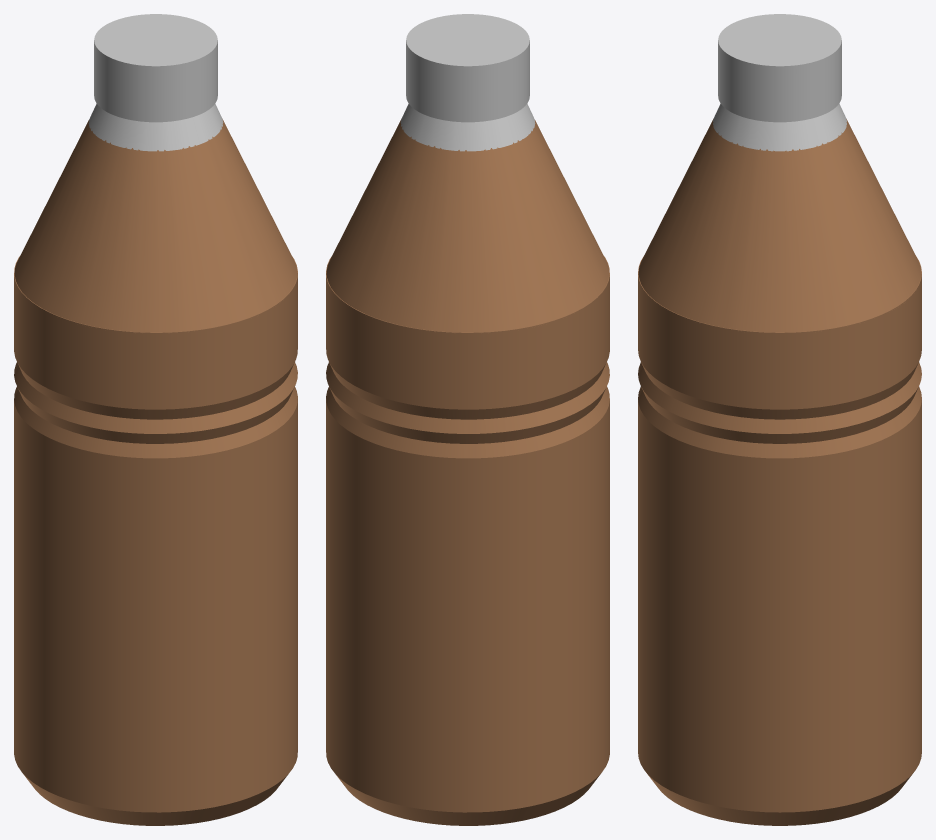
The picture shows the model from 3 angles, left to right: view 1: azimuth 30°, elevation 25°; view 2: azimuth 150°, elevation 25°; view 3: azimuth 270°, elevation 25°; orthographic projection.
Parts seen in each view (by area): view 1: body, shoulder, cap, neck_collar; view 2: body, shoulder, cap, neck_collar; view 3: body, shoulder, cap, neck_collar.
Boxes of the visible parts, left/top/right/bottom form: body: left=14, top=256, right=297, bottom=825; shoulder: left=14, top=119, right=297, bottom=332; cap: left=94, top=14, right=217, bottom=122; neck_collar: left=88, top=103, right=223, bottom=151; body: left=326, top=256, right=609, bottom=825; shoulder: left=326, top=119, right=609, bottom=332; cap: left=406, top=14, right=529, bottom=122; neck_collar: left=400, top=103, right=535, bottom=151; body: left=638, top=256, right=921, bottom=825; shoulder: left=638, top=119, right=921, bottom=332; cap: left=718, top=14, right=841, bottom=122; neck_collar: left=713, top=103, right=846, bottom=151.
Size of the model in its own units: 0.1056 by 0.3003 by 0.1056.
